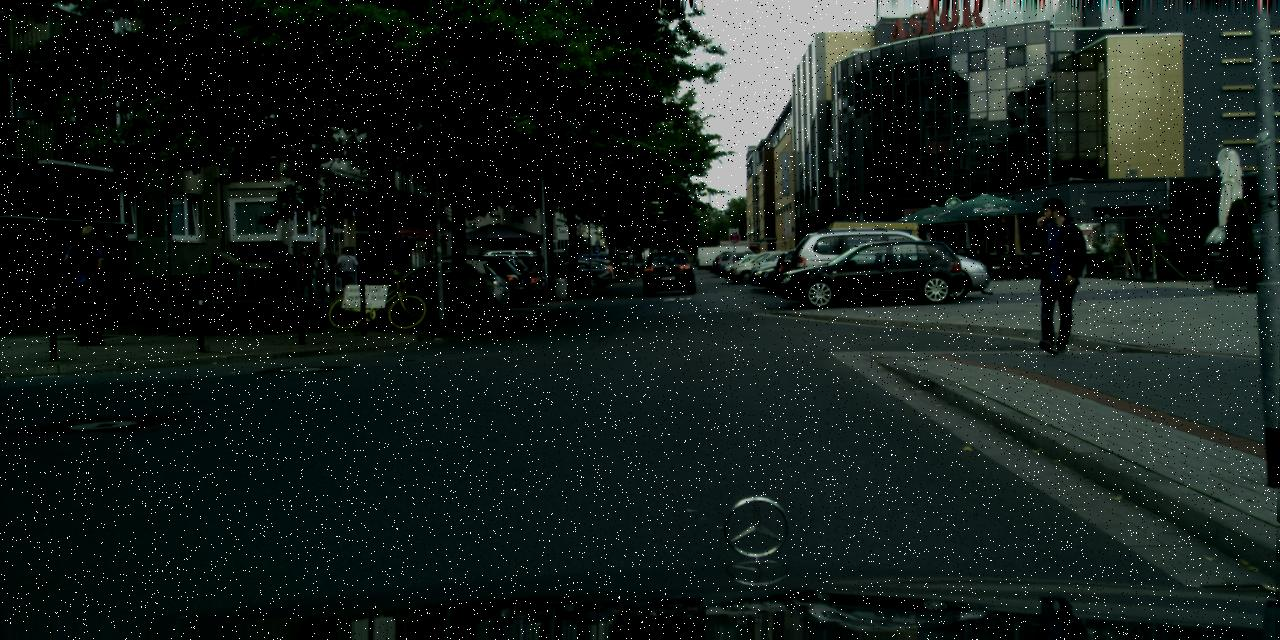ped: (1023, 197, 1087, 352), (66, 224, 115, 345), (269, 242, 297, 310), (335, 246, 359, 306), (315, 247, 337, 302), (292, 248, 314, 302)
